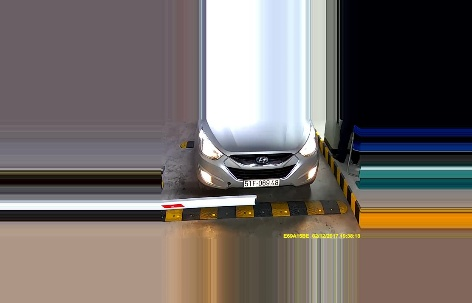plate: (244, 178, 280, 190)
